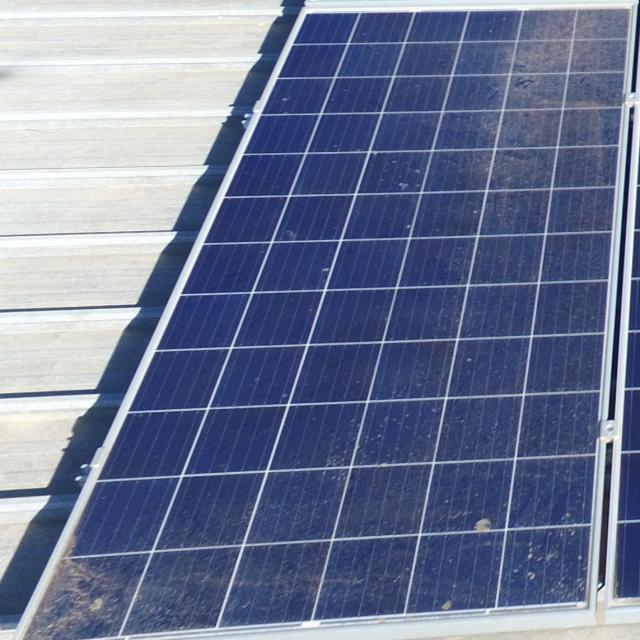Dust: (487, 10, 636, 156), (40, 525, 138, 640)
bird-droppings: (467, 512, 496, 538), (522, 540, 550, 564), (437, 596, 460, 614), (520, 567, 543, 584), (391, 179, 416, 194), (276, 93, 293, 111), (251, 372, 270, 388), (461, 351, 478, 367), (282, 225, 297, 241), (317, 263, 333, 277), (409, 167, 426, 180), (404, 216, 415, 235), (278, 386, 290, 402)
